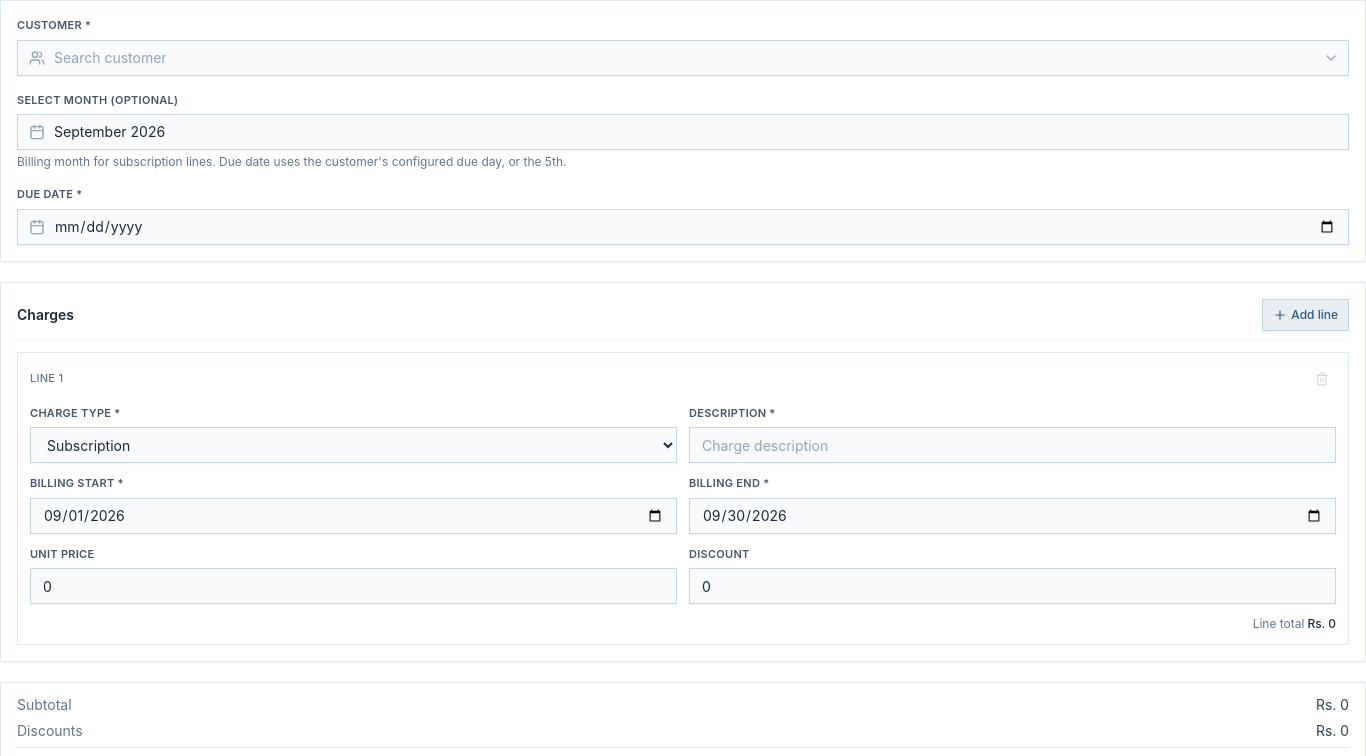
it: InvoiceForm multiline builder › hides qty for subscription and shows it for equipment
Expected: the text "Line 1" is shown, [30,370,63,387]
Expected: the field labelled "Qty" is not shown
Select "Equipment" in the 2nd dropdown at (354, 445), box [30,427,677,463]
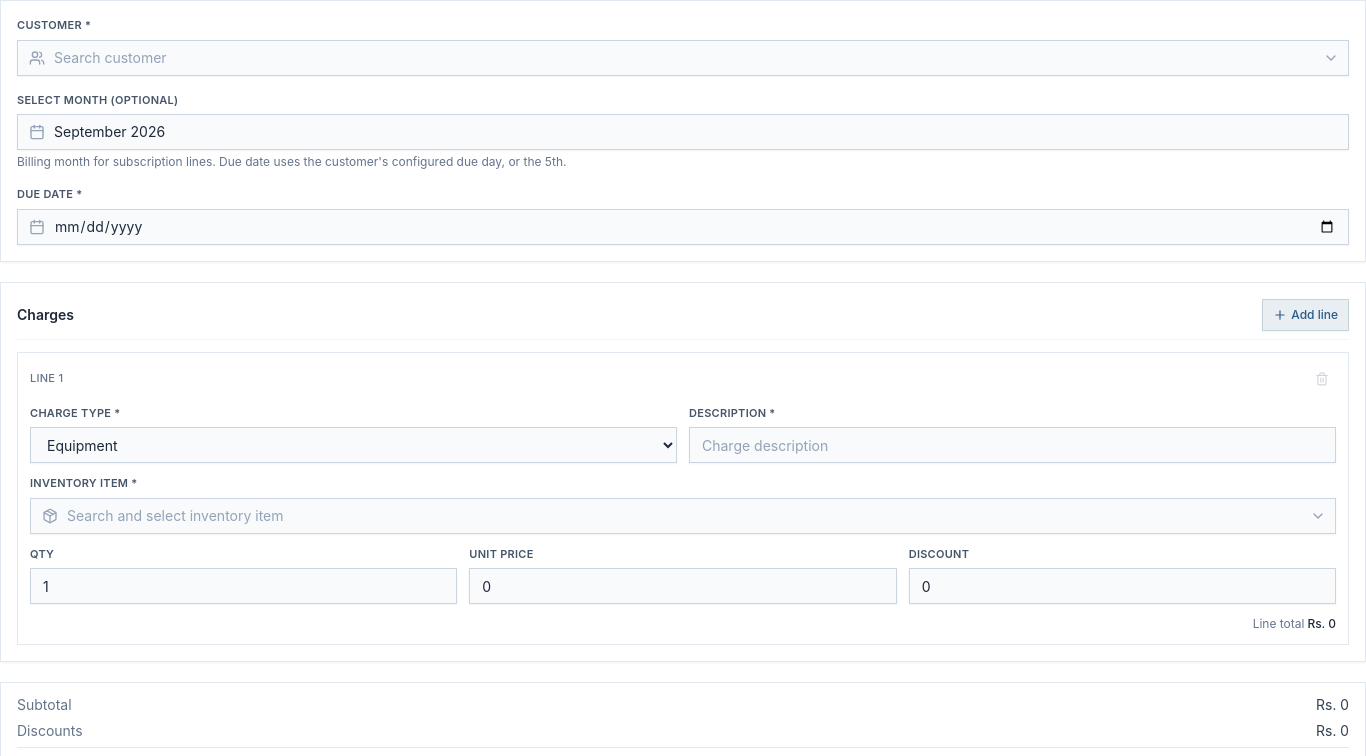
Result: the text "Qty" is shown at [30,546,54,560]
Select "Subscription" in the 2nd dropdown at (354, 445), box [30,427,677,463]
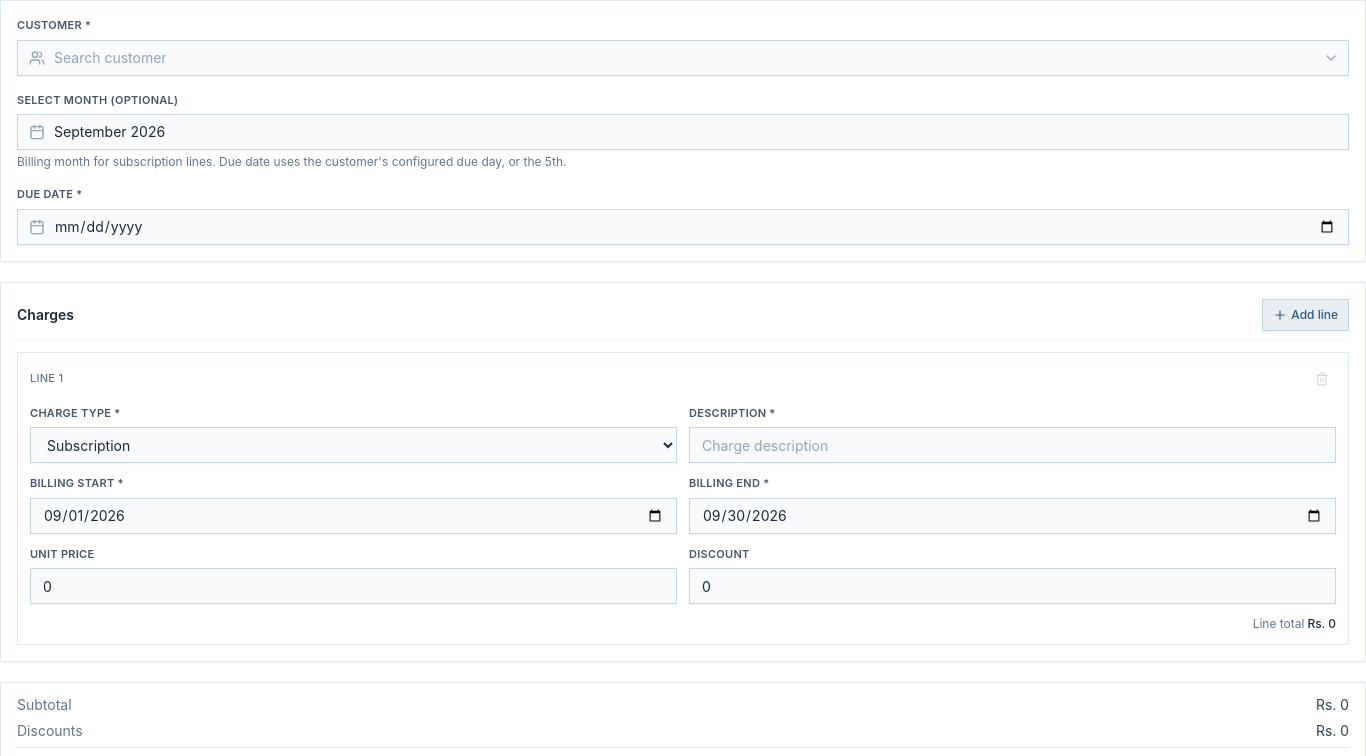
Result: the text "Qty" is gone
